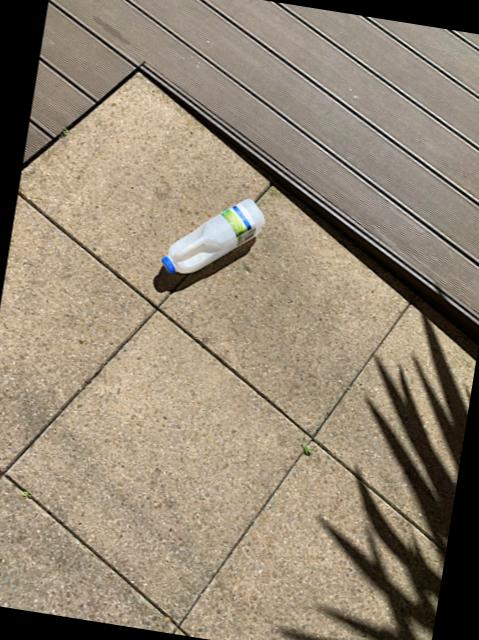plastic: (163, 197, 265, 272)
